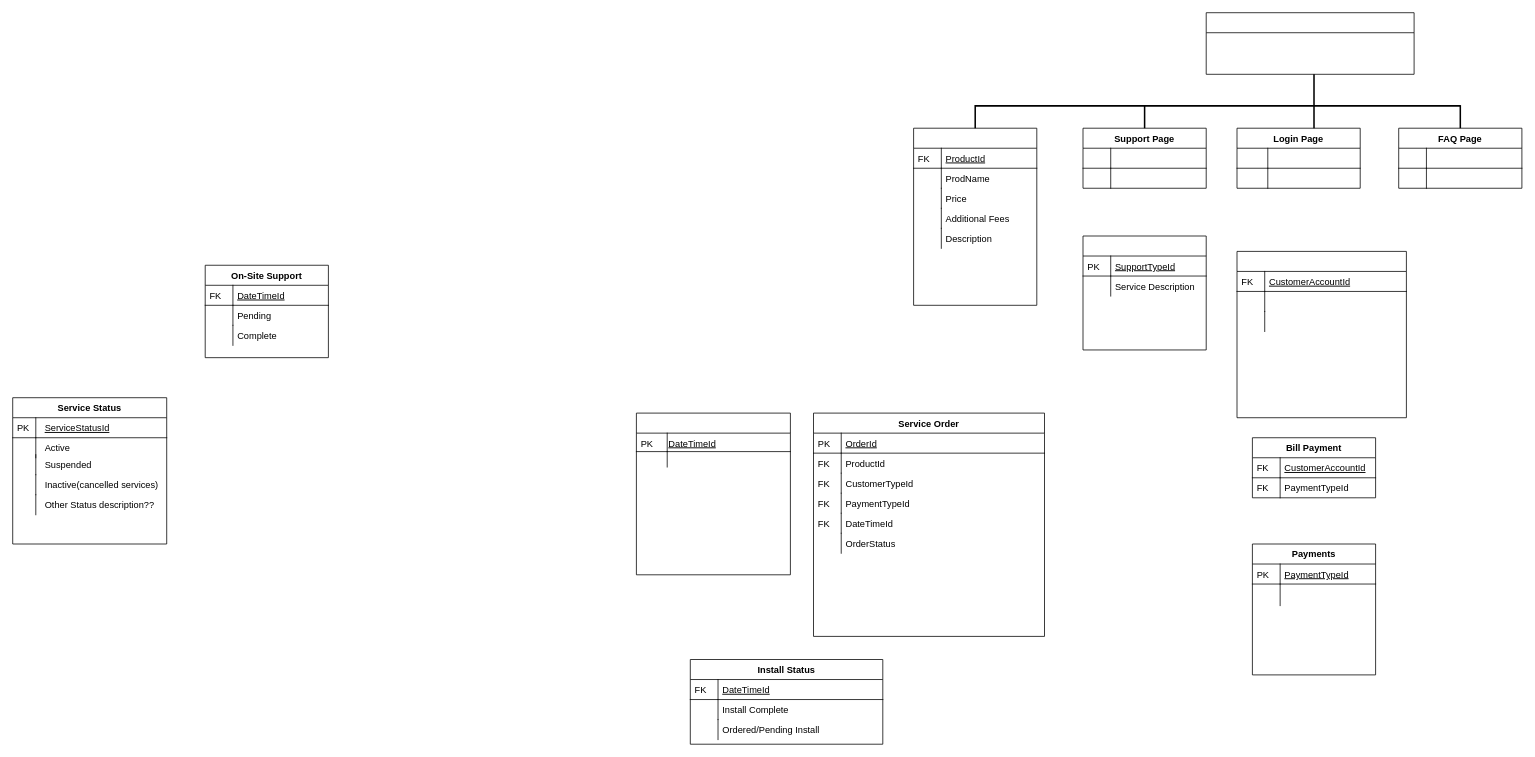
The diagram is 1535 pixels wide and 757 high, and some of its shapes have lost their labels. The shapes that lost their labels are listed below. From the top down, each one's box as (x1, y1, x2, y2) in pixels, then its label:
(1205, 12, 1414, 74): Website
(913, 127, 1037, 305): Product Page
(1082, 235, 1206, 350): Support Tickets
(1236, 251, 1406, 418): New Customer Registration Page
(636, 412, 790, 575): Calendar
